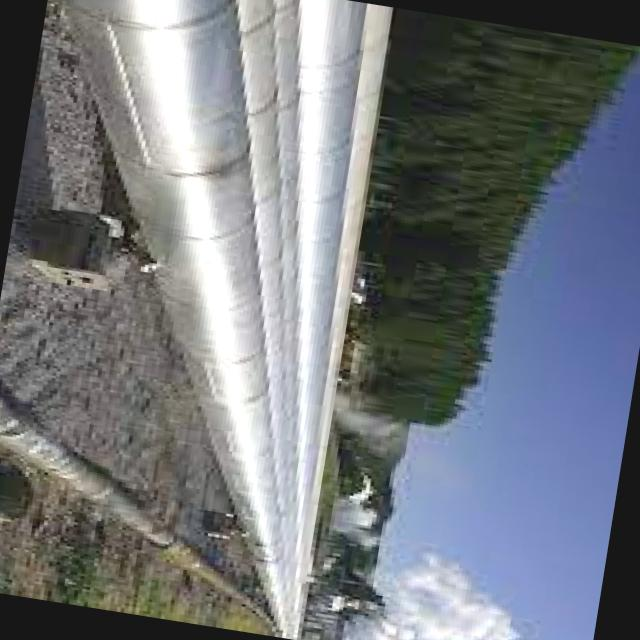gas: (65, 0, 391, 639)
